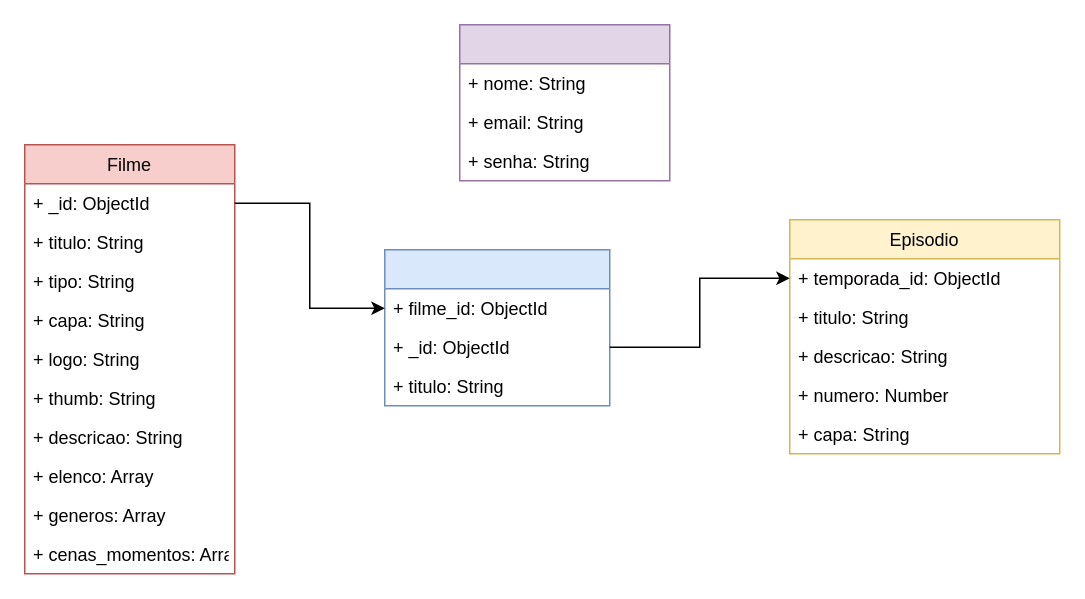
The diagram is 1085 pixels wide and 599 high, and some of its shapes have lost their labels. Each missing label, with the box of its shape:
Temporada: (383, 248, 610, 406)
Usuario: (458, 23, 670, 181)
